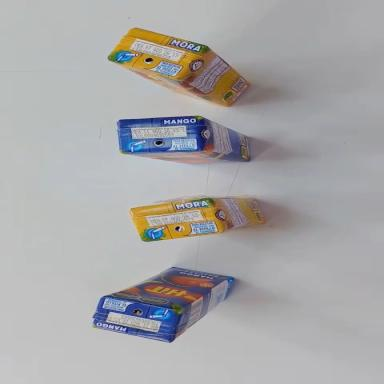HIT-MANGO: (91, 255, 234, 352), (118, 114, 251, 166)
HIT-MORA: (107, 11, 257, 119), (130, 191, 265, 243)
cara_F: (103, 257, 231, 318), (104, 60, 230, 107), (124, 149, 250, 166)
